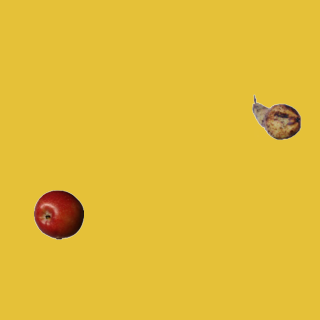Apple Braeburn: (33, 189, 83, 239)
Pear Abate: (251, 92, 301, 142)
